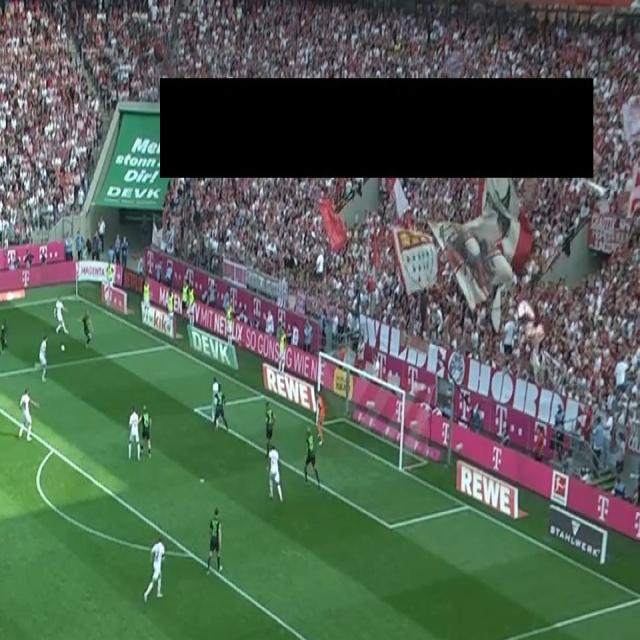ball: (60, 343, 66, 352)
